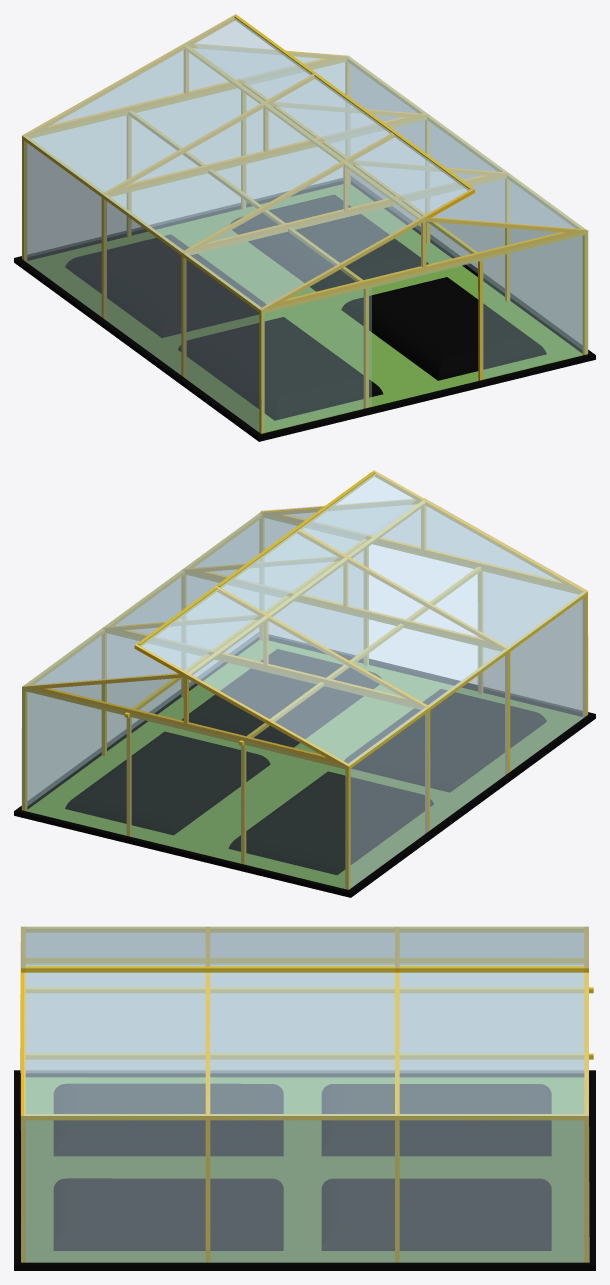
File: PIPE.gltf
The picture shows the model from 3 angles, top to bottom: view 1: azimuth 30°, elevation 25°; view 2: azimuth 150°, elevation 25°; view 3: azimuth 270°, elevation 25°; orthographic projection. The views are drawn at different scales.
Parts seen in each view (by area): view 1: Part 1.027, Part 1.023, Part 1.010, Part 1.001, Part 1.012, Part 1.024, Part 1.002, Part 1.022, Part 1.028, Part 1.004, Part 1.034, Part 1 (+19 smaller); view 2: Part 1.027, Part 1.023, Part 1.001, Part 1.012, Part 1.024, Part 1.010, Part 1.002, Part 1.028, Part 1.004, Part 1.022, Part 1.034, Part 1 (+19 smaller); view 3: Part 1.027, Part 1.002, Part 1.024, Part 1.012, Part 1.023, Part 1.016, Part 1.033, Part 1.030, Part 1, Part 1.009, Part 1.003, Part 1.018 (+9 smaller).
Boxes of the visible parts, box(x1,y1,x2,y2) form: Part 1.027: box(14, 178, 595, 441); Part 1.023: box(22, 14, 474, 310); Part 1.010: box(262, 217, 588, 432); Part 1.001: box(28, 49, 344, 256); Part 1.012: box(22, 141, 261, 433); Part 1.024: box(195, 44, 585, 229); Part 1.002: box(351, 65, 582, 349); Part 1.022: box(259, 188, 587, 310); Part 1.028: box(22, 14, 349, 136); Part 1.004: box(102, 72, 429, 194); Part 1.034: box(182, 133, 509, 253); Part 1: box(22, 136, 264, 313); Part 1.027: box(14, 635, 595, 897); Part 1.023: box(135, 470, 587, 766); Part 1.001: box(22, 674, 348, 889); Part 1.012: box(349, 597, 588, 889); Part 1.024: box(22, 501, 414, 686); Part 1.010: box(261, 498, 586, 711); Part 1.002: box(21, 521, 258, 809); Part 1.028: box(22, 644, 350, 766); Part 1.004: box(102, 585, 429, 707); Part 1.022: box(260, 470, 587, 592); Part 1.034: box(182, 529, 509, 649); Part 1: box(345, 592, 587, 769); Part 1.027: box(14, 1070, 595, 1270); Part 1.002: box(21, 1116, 589, 1262); Part 1.024: box(24, 965, 588, 1115); Part 1.012: box(20, 933, 583, 1072); Part 1.023: box(21, 926, 588, 968); Part 1.016: box(21, 1114, 588, 1120); Part 1.033: box(26, 1053, 593, 1059); Part 1.030: box(26, 987, 593, 993); Part 1: box(26, 927, 583, 932); Part 1.009: box(26, 958, 583, 962); Part 1.003: box(399, 966, 584, 972); Part 1.018: box(25, 966, 210, 972).
Size of the model in its own units: 10 by 5.59 by 12.6.
